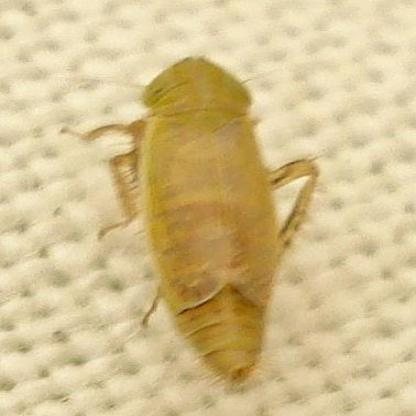green-leafhopper: (76, 55, 320, 384)
